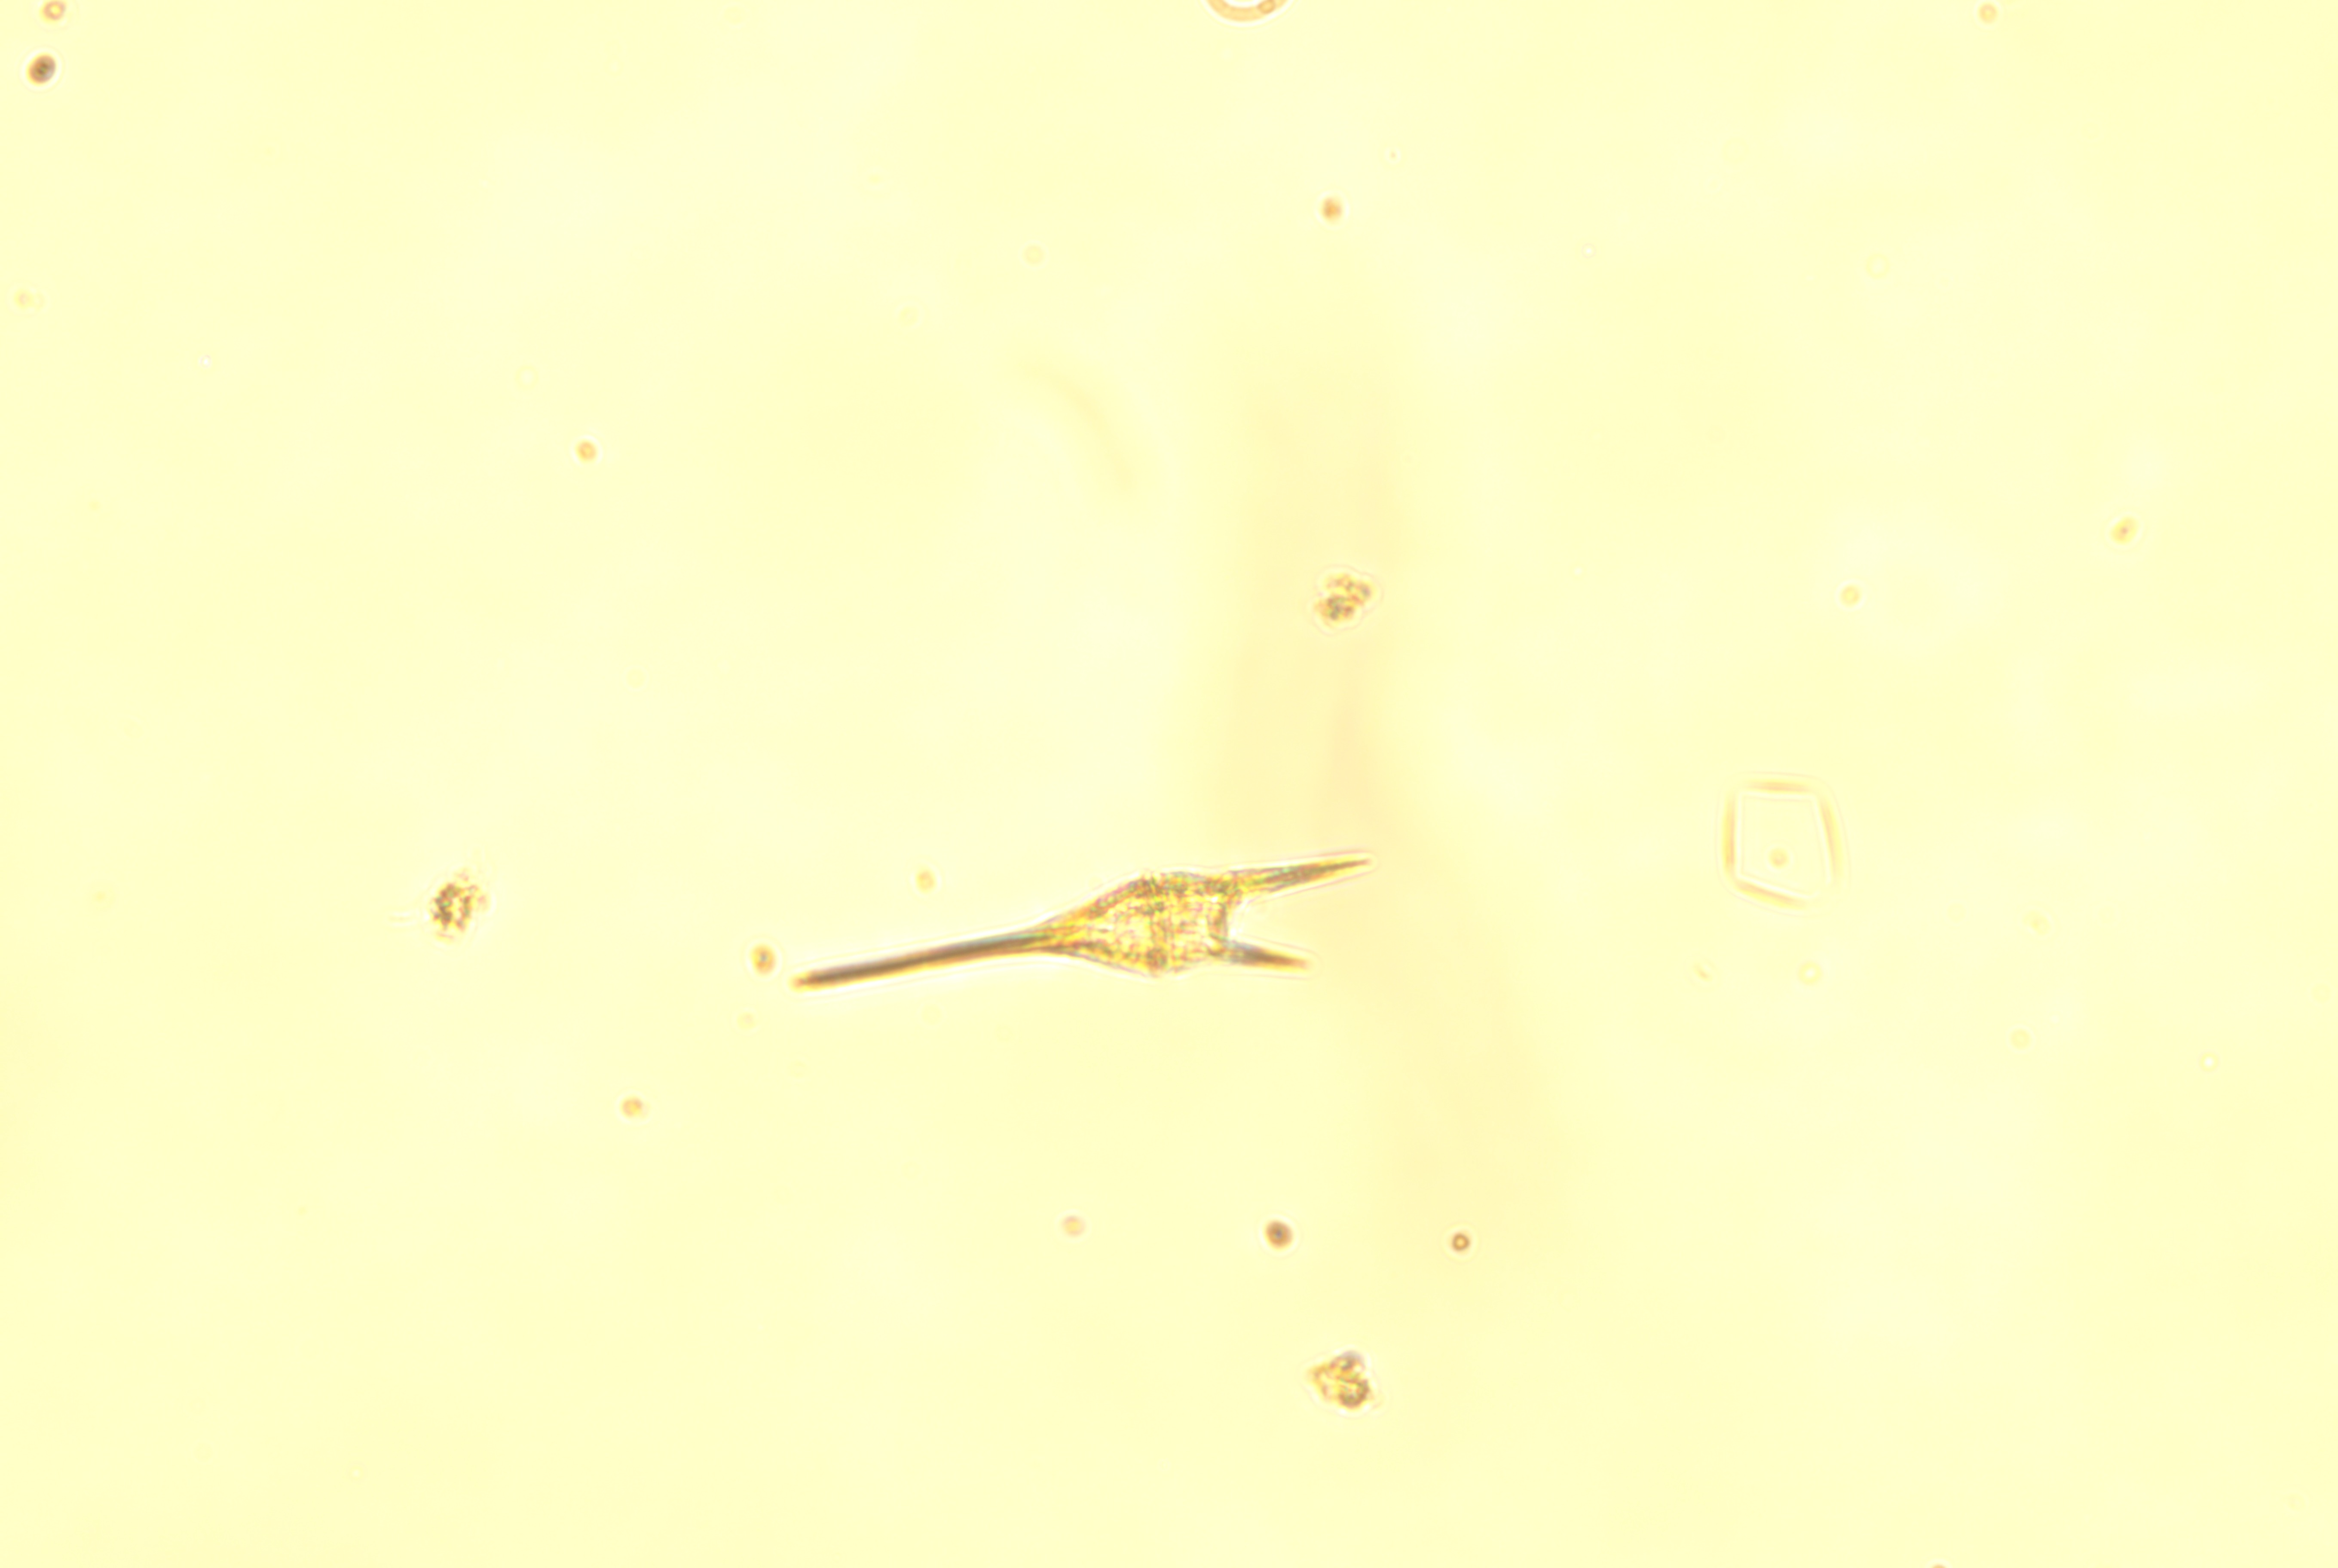ceratium furca: (786, 854, 1374, 992)
